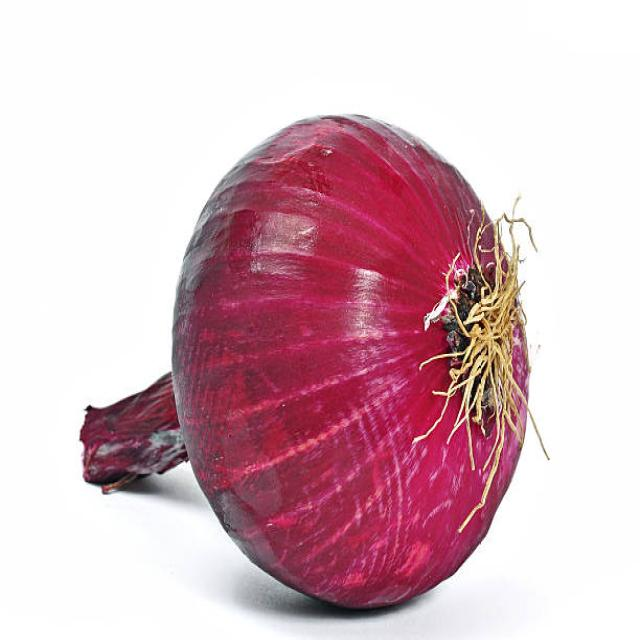onion: (139, 113, 542, 611)
